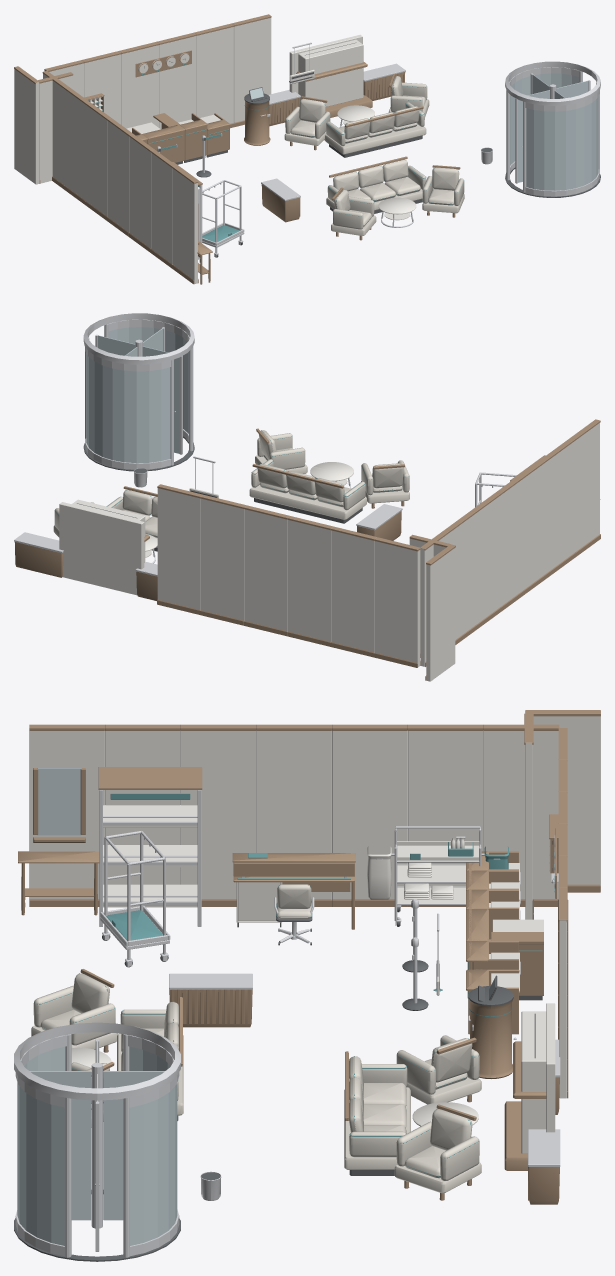
The model's file is hotel-lobby.glb.
The picture shows the model from 3 angles, top to bottom: view 1: azimuth 30°, elevation 25°; view 2: azimuth 150°, elevation 25°; view 3: azimuth 270°, elevation 25°; orthographic projection. The views are drawn at different scales.
Parts seen in each view (by area): view 1: 046-revolving-door-module/0, 013-partition-wall-corner/0, 033-lobby-fireplace-feature/0, 046-revolving-door-module/1, 004-partition-wall-module/0, 005-partition-wall-module/0, 040-lobby-sofa/2, 036-lobby-sofa/2, 002-partition-wall-module/0, 003-partition-wall-module/0, 012-partition-wall-module/0, 007-partition-wall-module/0 (+27 smaller); view 2: 046-revolving-door-module/0, 033-lobby-fireplace-feature/0, 000-partition-wall-module/0, 002-partition-wall-module/0, 046-revolving-door-module/1, 003-partition-wall-module/0, 001-partition-wall-module/0, 004-partition-wall-module/0, 005-partition-wall-module/0, 040-lobby-sofa/2, 013-partition-wall-corner/0, 008-partition-wall-module/0 (+22 smaller); view 3: 046-revolving-door-module/0, 046-revolving-door-module/1, 008-partition-wall-module/0, 010-partition-wall-module/0, 009-partition-wall-module/0, 006-partition-wall-module/0, 007-partition-wall-module/0, 013-partition-wall-corner/0, 012-partition-wall-module/0, 036-lobby-sofa/2, 011-partition-wall-module/0, 039-lobby-armchair/1 (+39 smaller).
Part boxes in pixels (x1,y1,x2,y2): 046-revolving-door-module/0: [510, 73, 598, 190]; 013-partition-wall-corner/0: [14, 69, 73, 184]; 033-lobby-fireplace-feature/0: [289, 34, 363, 106]; 046-revolving-door-module/1: [505, 61, 600, 196]; 004-partition-wall-module/0: [196, 27, 233, 123]; 005-partition-wall-module/0: [234, 18, 271, 122]; 040-lobby-sofa/2: [326, 159, 426, 210]; 036-lobby-sofa/2: [325, 102, 426, 154]; 002-partition-wall-module/0: [121, 45, 158, 128]; 003-partition-wall-module/0: [159, 36, 196, 129]; 012-partition-wall-module/0: [173, 169, 197, 283]; 007-partition-wall-module/0: [64, 89, 86, 200]; 046-revolving-door-module/0: [86, 327, 188, 463]; 033-lobby-fireplace-feature/0: [59, 499, 145, 595]; 000-partition-wall-module/0: [374, 541, 420, 667]; 002-partition-wall-module/0: [287, 520, 331, 641]; 046-revolving-door-module/1: [83, 313, 194, 469]; 003-partition-wall-module/0: [244, 509, 287, 631]; 001-partition-wall-module/0: [331, 530, 374, 652]; 004-partition-wall-module/0: [201, 498, 244, 620]; 005-partition-wall-module/0: [157, 488, 200, 610]; 040-lobby-sofa/2: [249, 459, 366, 519]; 013-partition-wall-corner/0: [409, 538, 455, 681]; 008-partition-wall-module/0: [474, 496, 499, 625]; 046-revolving-door-module/0: [17, 1046, 177, 1245]; 046-revolving-door-module/1: [14, 1022, 180, 1257]; 008-partition-wall-module/0: [332, 730, 407, 899]; 010-partition-wall-module/0: [180, 731, 256, 898]; 009-partition-wall-module/0: [256, 731, 331, 899]; 006-partition-wall-module/0: [483, 731, 558, 898]; 007-partition-wall-module/0: [408, 730, 483, 886]; 013-partition-wall-corner/0: [525, 716, 600, 919]; 012-partition-wall-module/0: [29, 731, 104, 899]; 036-lobby-sofa/2: [344, 1056, 410, 1169]; 011-partition-wall-module/0: [105, 731, 180, 884]; 039-lobby-armchair/1: [394, 1109, 481, 1193].
Size of the model in its own units: 11.67 by 2.6 by 7.75.
